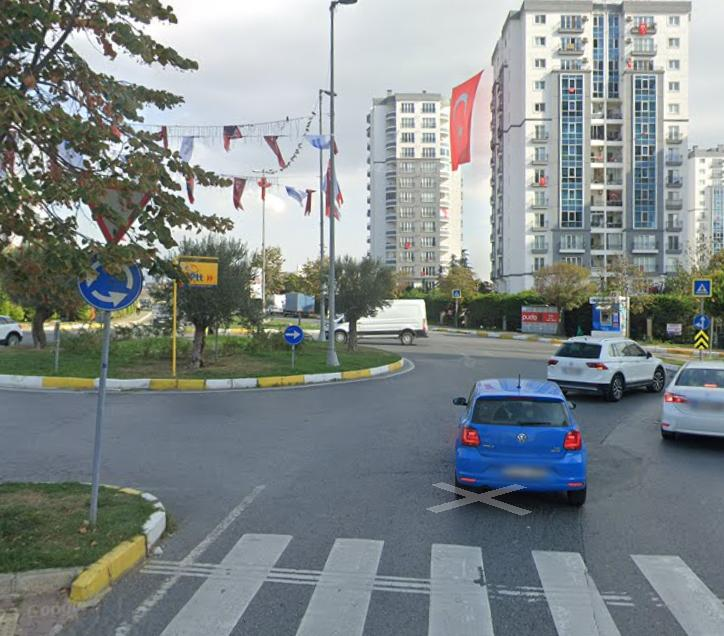crossroads: (81, 252, 143, 310)
turnright: (285, 325, 304, 345)
